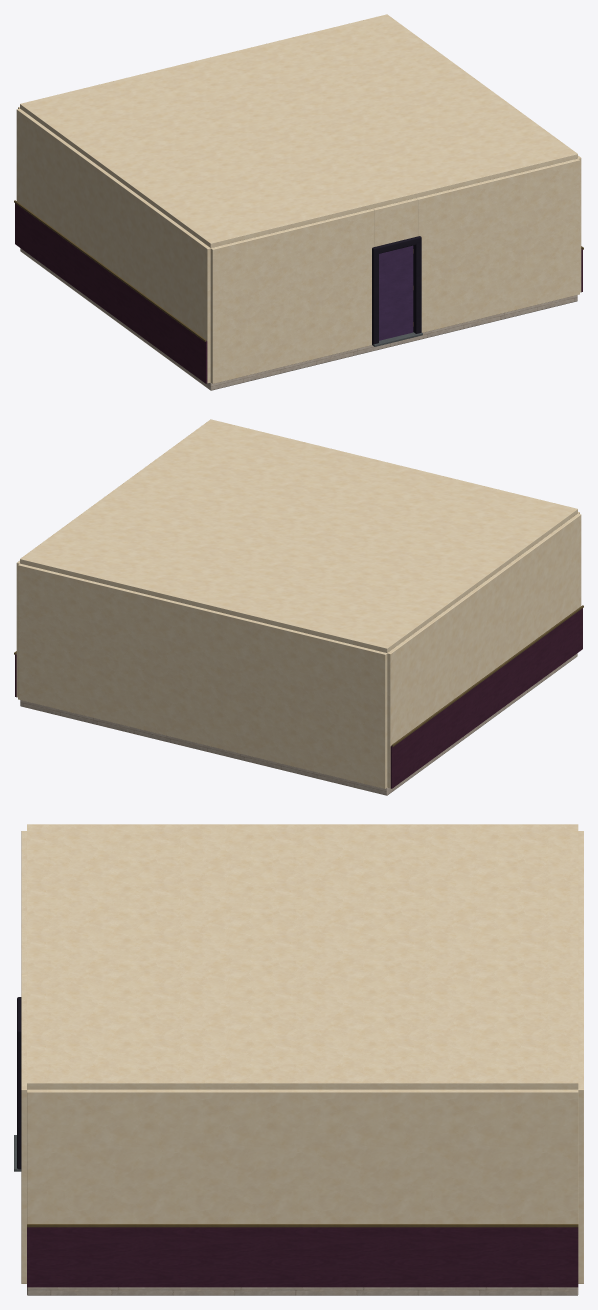
The model's file is explore3d__mirror_workbay.glb.
3 views of the same model, one above another, from view 1: azimuth 30°, elevation 25°; view 2: azimuth 150°, elevation 25°; view 3: azimuth 270°, elevation 25° (orthographic). The views are drawn at different scales.
Visible parts, largest first — view 1: ceiling.017, wall.045, wall.044, wall.047, lower_panel.046, mirror_workbay_floor, front.021_leaf, door_lintel.011, front.021_jamb, panel_rail.046, front.021_jamb.001; view 2: ceiling.017, wall.046, wall.047, lower_panel.046, mirror_workbay_floor, panel_rail.046; view 3: ceiling.017, wall.048, lower_panel.047, mirror_workbay_floor, wall.046, panel_rail.047, wall.044, wall.045, front.021_jamb.
Part boxes in pixels (box(x1,y1,x2,y2)): ceiling.017: box(20, 14, 577, 247); wall.045: box(210, 208, 374, 383); wall.044: box(416, 158, 579, 332); wall.047: box(16, 108, 210, 383); lower_panel.046: box(15, 203, 207, 383); mirror_workbay_floor: box(20, 248, 577, 390); front.021_leaf: box(379, 245, 413, 340); door_lintel.011: box(373, 198, 417, 246); front.021_jamb: box(413, 241, 421, 333); panel_rail.046: box(14, 200, 206, 341); front.021_jamb.001: box(372, 251, 378, 344); ceiling.017: box(20, 419, 577, 652); wall.046: box(18, 563, 387, 788); wall.047: box(387, 513, 581, 788); lower_panel.046: box(390, 608, 582, 788); mirror_workbay_floor: box(20, 653, 577, 795); panel_rail.046: box(391, 605, 583, 746); ceiling.017: box(27, 824, 578, 1089); wall.048: box(27, 1089, 578, 1223); lower_panel.047: box(27, 1227, 578, 1287); mirror_workbay_floor: box(27, 1287, 578, 1295); wall.046: box(578, 831, 583, 1283); panel_rail.047: box(27, 1224, 578, 1227); wall.044: box(21, 975, 26, 1283); wall.045: box(21, 831, 26, 945); front.021_jamb: box(17, 1036, 21, 1169).
Size of the model in its own units: 10.32 by 3.84 by 9.3.
12 materials, 10 textured.
